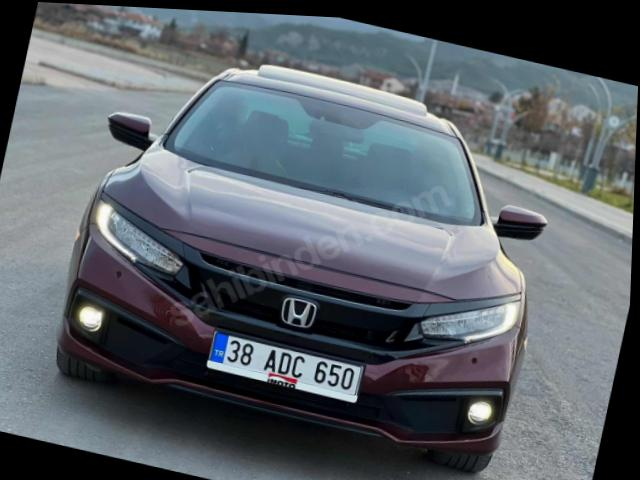plaka: (207, 332, 363, 402)
